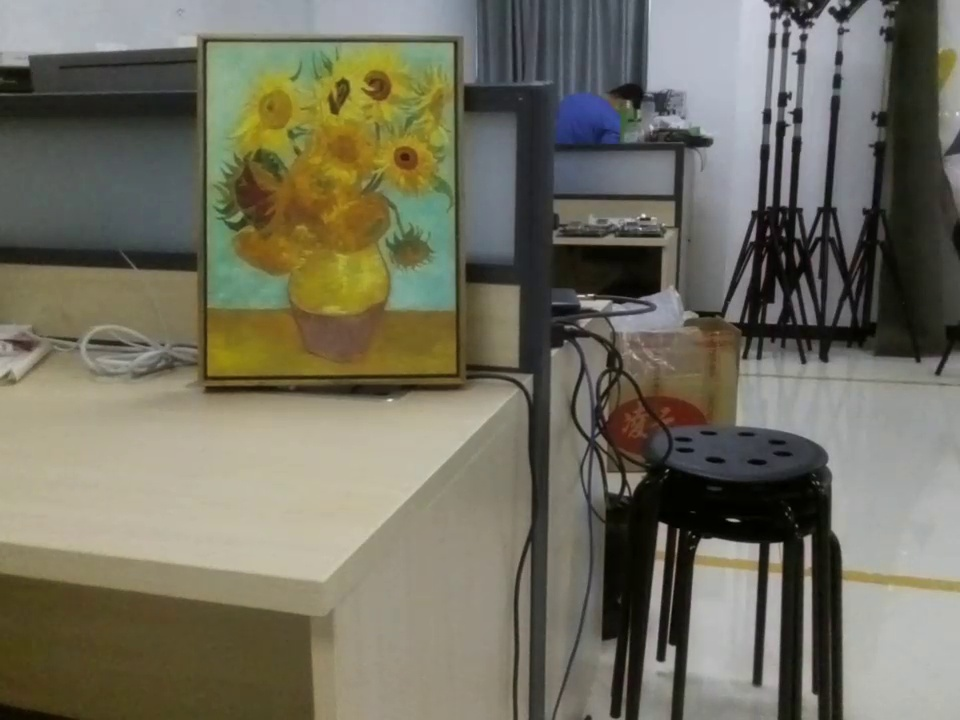painting: (190, 29, 480, 389)
